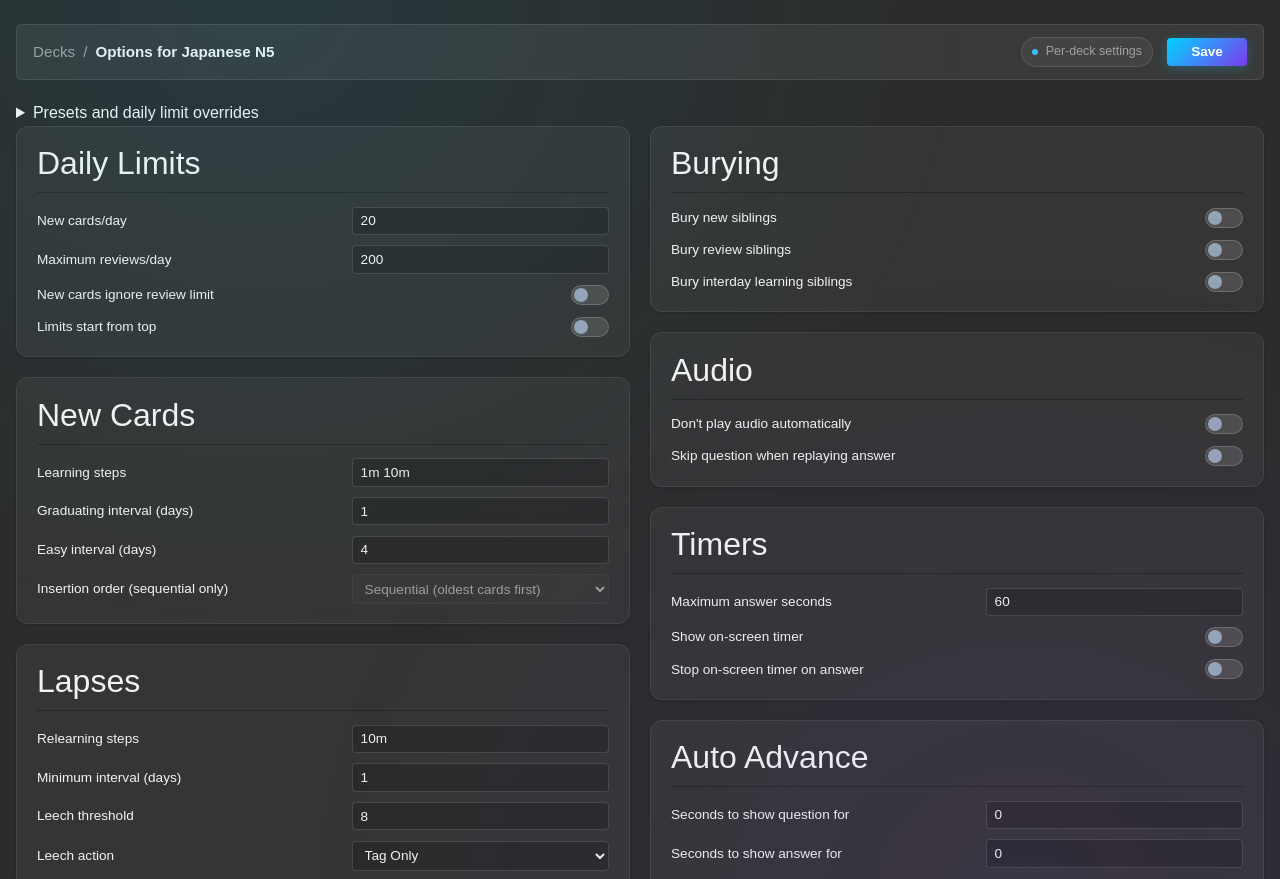
Scenario: DeckOptionsPage Component › handles save failure with inline error alert without crashing or alerts
The image size is (1280, 879).
Expected: the text "Options for Japanese N5" is shown, x1=95 y1=40 x2=274 y2=64
Click the button "Save": point(1207, 52) x1=1167 y1=38 x2=1247 y2=66
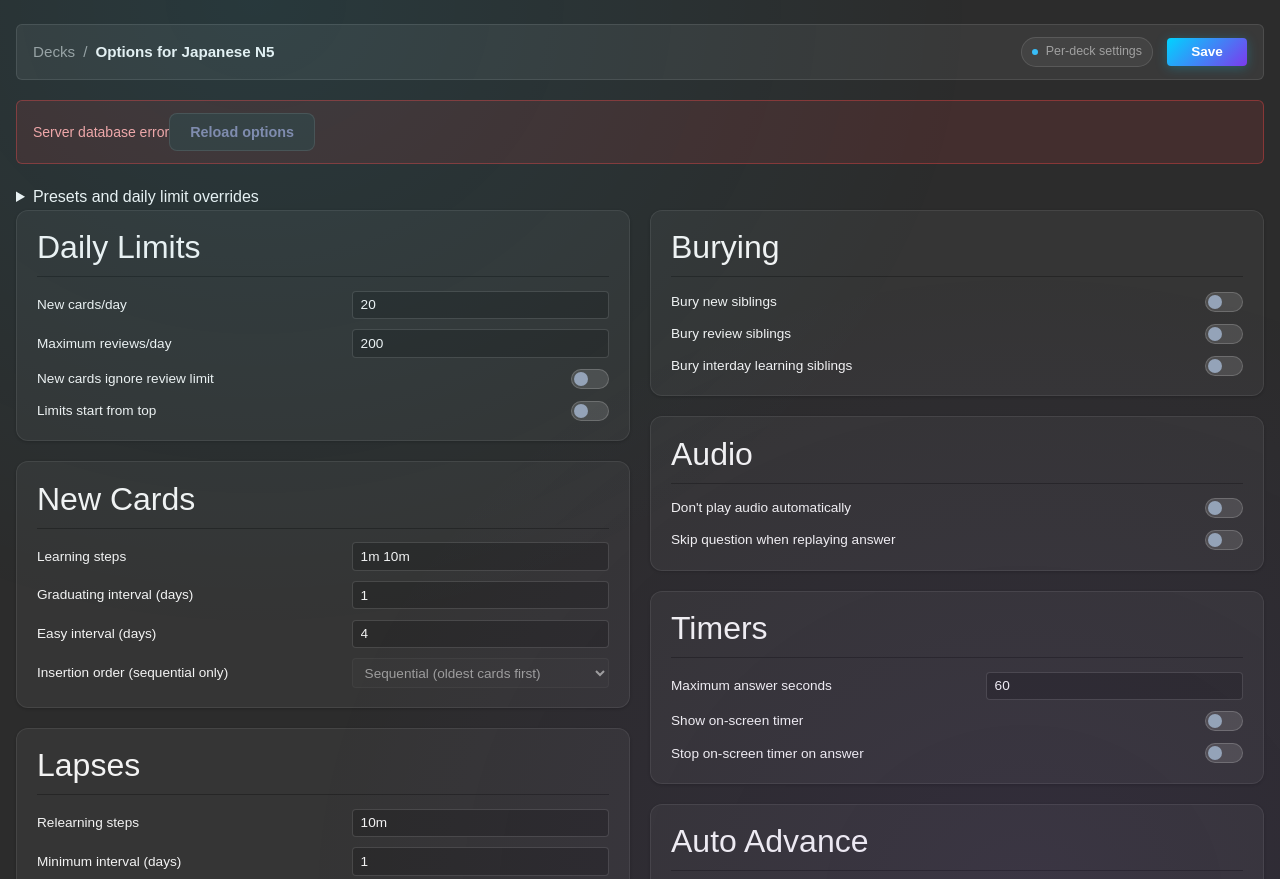
Expected: the message "Server database error Reload options" is shown, x1=16 y1=100 x2=1264 y2=164
Expected: the message shows "Server database error", x1=33 y1=124 x2=169 y2=140
